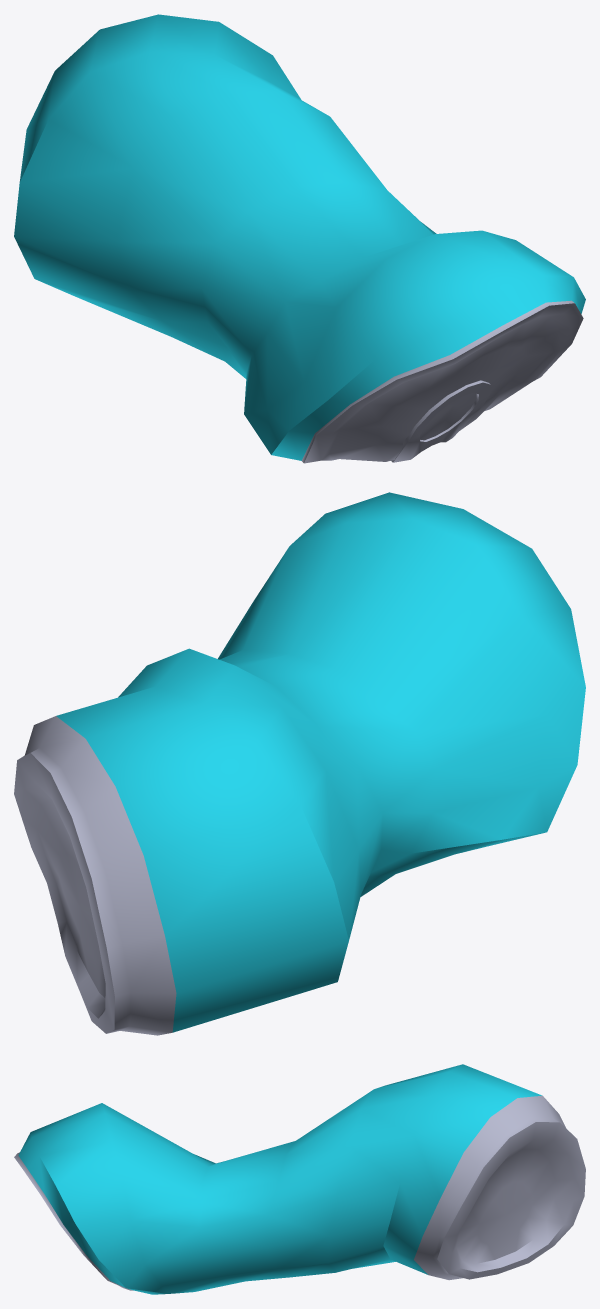
File: Misc_BeverageCan_02_Crushed_A.fbx
3 renders of one model, top to bottom at view 1: azimuth 30°, elevation 25°; view 2: azimuth 150°, elevation 25°; view 3: azimuth 270°, elevation 25°, orthographic. The views are drawn at different scales.
Visible parts, largest first — view 1: Misc_BeverageCan_02_Crushed_A.001; view 2: Misc_BeverageCan_02_Crushed_A.001; view 3: Misc_BeverageCan_02_Crushed_A.001.
Part boxes in pixels (box(x1,y1,x2,y2)): Misc_BeverageCan_02_Crushed_A.001: box(14, 14, 585, 463); Misc_BeverageCan_02_Crushed_A.001: box(14, 492, 585, 1035); Misc_BeverageCan_02_Crushed_A.001: box(14, 1064, 585, 1294).
Bounding box in the file's own units: 0.081 × 0.0606 × 0.1675.
